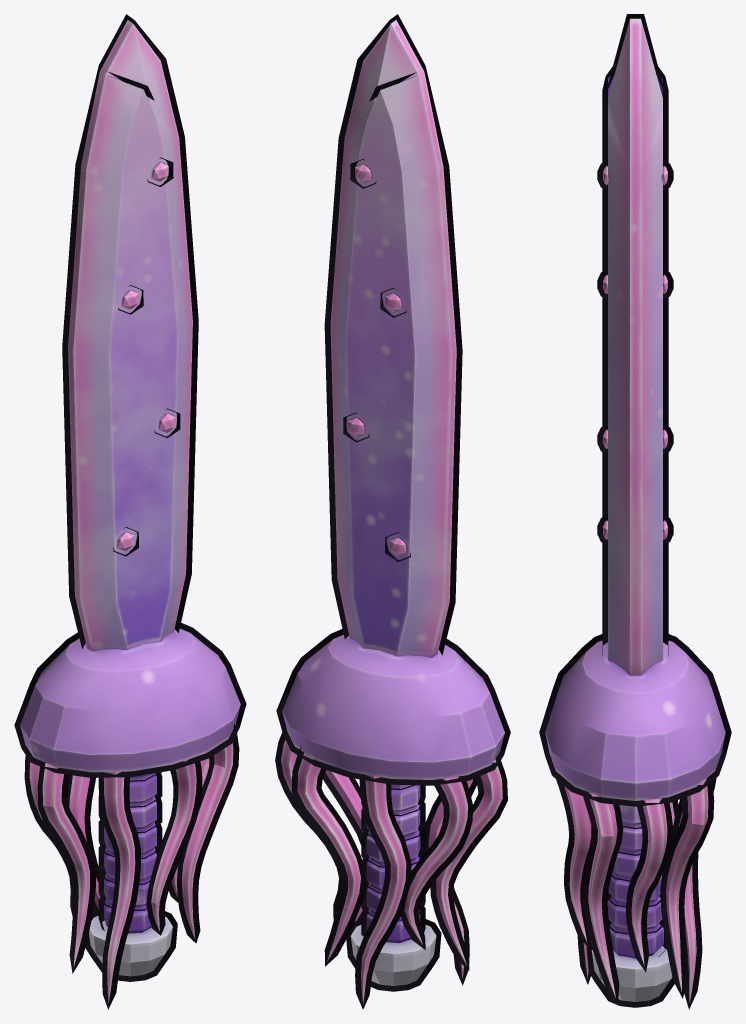
Rendered from JellyfishSword.fbx.
3 renders of one model, left to right at view 1: azimuth 30°, elevation 25°; view 2: azimuth 150°, elevation 25°; view 3: azimuth 270°, elevation 25°, orthographic. The views are drawn at different scales.
Visible parts, largest first — view 1: JellyfishSword, JellyfishSwordOutline, JellyfishSwordJellyGlow; view 2: JellyfishSword, JellyfishSwordOutline, JellyfishSwordJellyGlow; view 3: JellyfishSword, JellyfishSwordOutline, JellyfishSwordJellyGlow.
Part boxes in pixels (x1,y1,x2,y2): JellyfishSword: [20, 20, 240, 976]; JellyfishSwordOutline: [14, 14, 246, 1009]; JellyfishSwordJellyGlow: [29, 162, 233, 1004]; JellyfishSword: [282, 20, 504, 985]; JellyfishSwordOutline: [275, 14, 510, 1009]; JellyfishSwordJellyGlow: [281, 164, 502, 1004]; JellyfishSword: [545, 18, 725, 1001]; JellyfishSwordOutline: [539, 14, 731, 1009]; JellyfishSwordJellyGlow: [564, 166, 708, 1003].
Bounding box in the file's own units: 92.39 × 401 × 70.4.
Materials: 2 (1 with a texture image).
